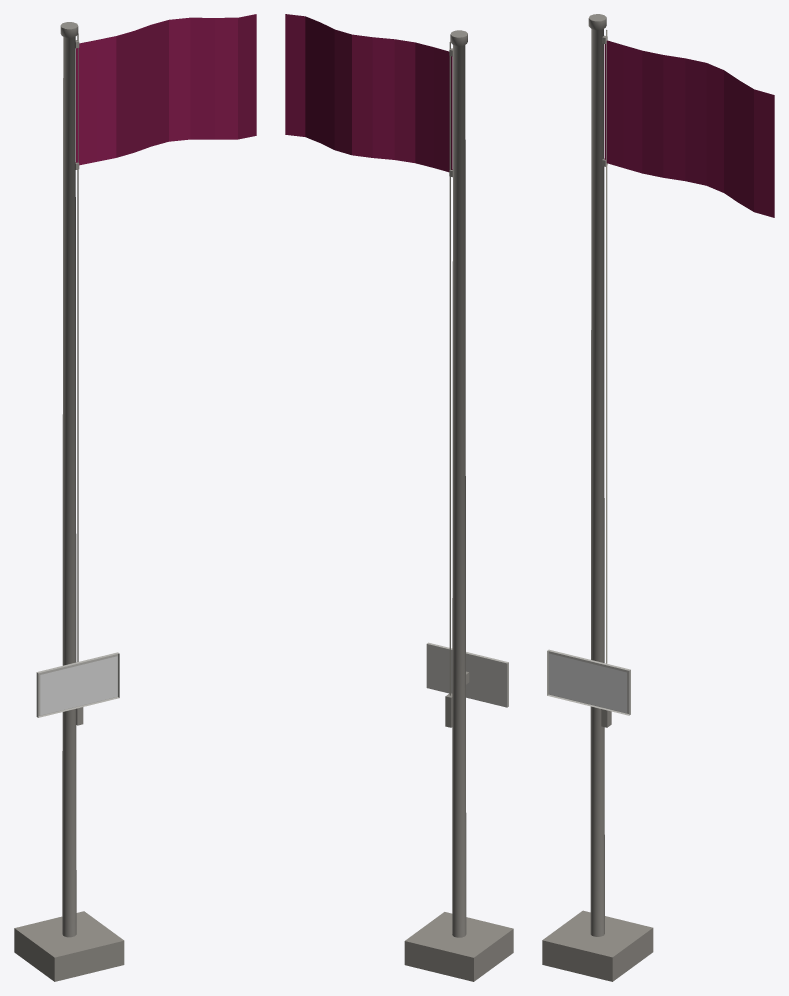
Rendered from range_flag.glb.
3 views of the same model, side by side, from view 1: azimuth 30°, elevation 25°; view 2: azimuth 150°, elevation 25°; view 3: azimuth 330°, elevation 25° (orthographic).
Visible parts, largest first — view 1: range_flag; view 2: range_flag; view 3: range_flag.
Part boxes in pixels (x1,y1,x2,y2): range_flag: (14,14,256,981); range_flag: (285,14,513,981); range_flag: (542,14,774,981).
Bounding box in the file's own units: 1.14 × 4.6 × 0.36.
